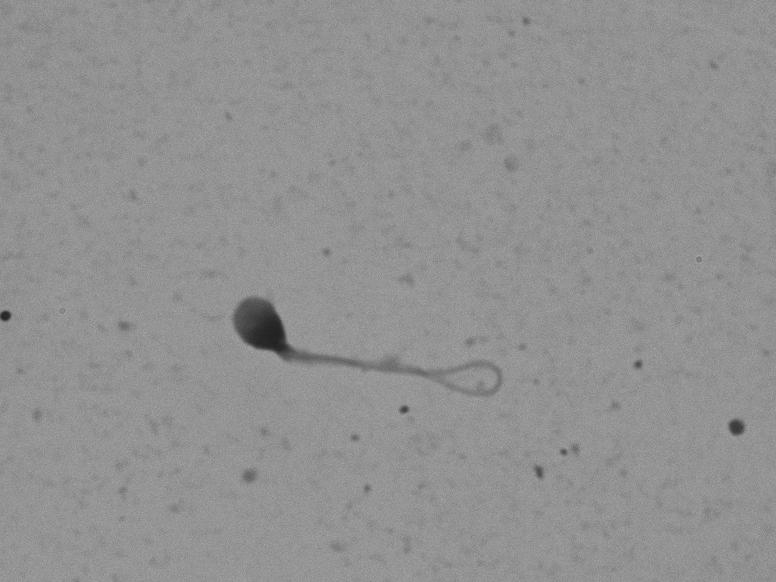Abnormal: (191, 271, 524, 432)
